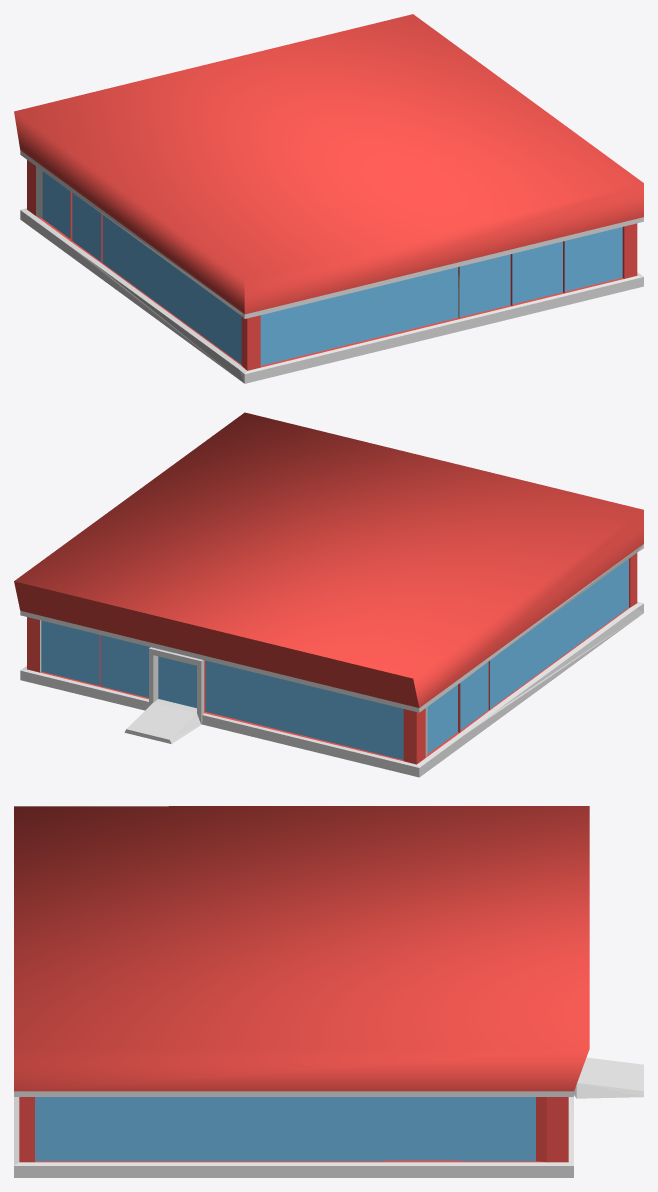
File: Shop8x8x1Red.fbx
3 views of the same model, one above another, from view 1: azimuth 30°, elevation 25°; view 2: azimuth 150°, elevation 25°; view 3: azimuth 270°, elevation 25° (orthographic). The views are drawn at different scales.
Visible parts, largest first — view 1: Shop.001; view 2: Shop.001; view 3: Shop.001.
Part boxes in pixels (x1,y1,x2,y2): Shop.001: [14, 14, 643, 383]; Shop.001: [14, 412, 643, 777]; Shop.001: [14, 806, 643, 1177].
Size of the model in its own units: 4.02 by 0.9949 by 4.4.
Materials: 1 (1 with a texture image).
